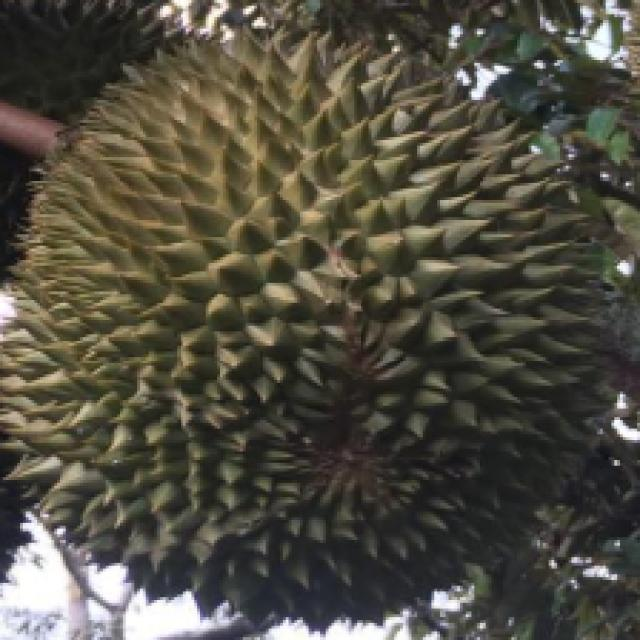d24: (1, 75, 614, 578)
